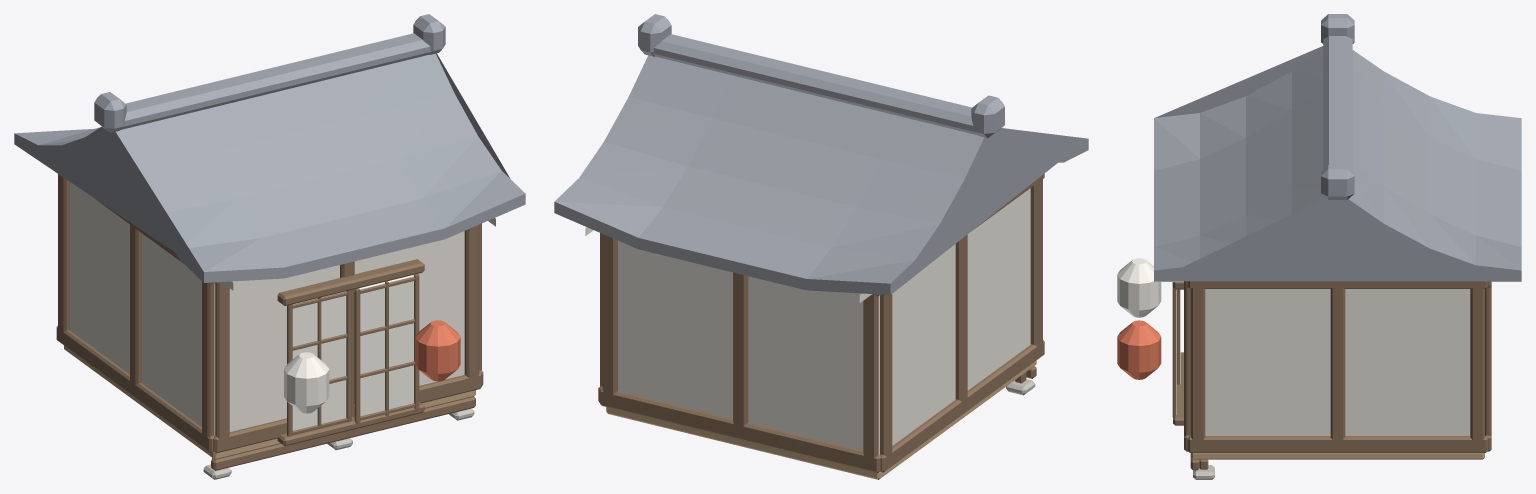
File: lantern-maker.glb
3 renders of one model, left to right at view 1: azimuth 30°, elevation 25°; view 2: azimuth 150°, elevation 25°; view 3: azimuth 270°, elevation 25°, orthographic. The views are drawn at different scales.
Parts seen in each view (by area): view 1: lantern-maker; view 2: lantern-maker; view 3: lantern-maker.
Part boxes in pixels (x1,y1,x2,y2): lantern-maker: (14, 14, 525, 479); lantern-maker: (554, 14, 1088, 479); lantern-maker: (1117, 14, 1521, 479).
Size of the model in its own units: 5.2 by 4.91 by 5.5.
